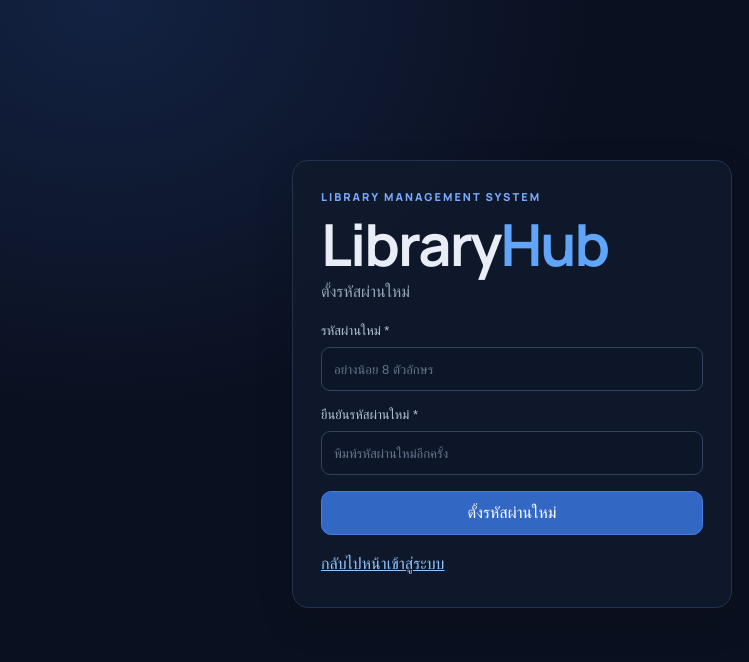
Test case: Login › ตั้งรหัสใหม่สำเร็จ: ส่ง token+รหัส, ล้าง token ออกจาก URL และกลับหน้าเข้าสู่ระบบ
Type "NewPassw0rd!" into the password field labelled "รหัสผ่านใหม่ *" at point(512, 369), box [321, 347, 703, 391]
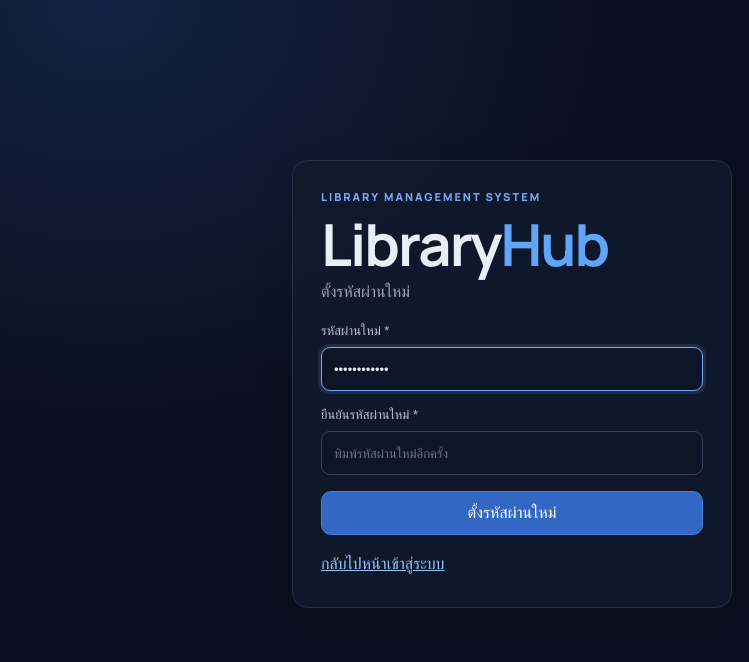
Type "NewPassw0rd!" into the password field labelled "ยืนยันรหัสผ่านใหม่ *" at point(512, 453), box [321, 431, 703, 475]
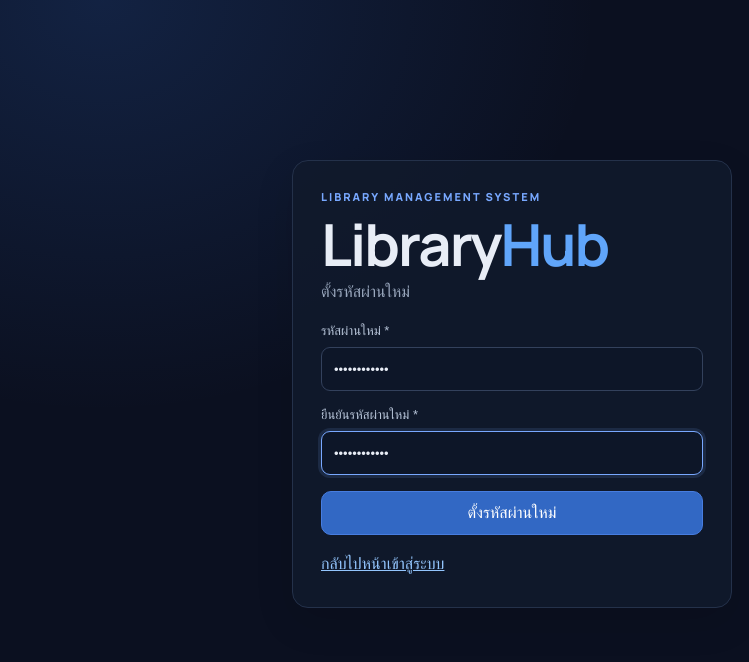
Click the button "ตั้งรหัสผ่านใหม่" at point(512, 513), box [321, 491, 703, 535]
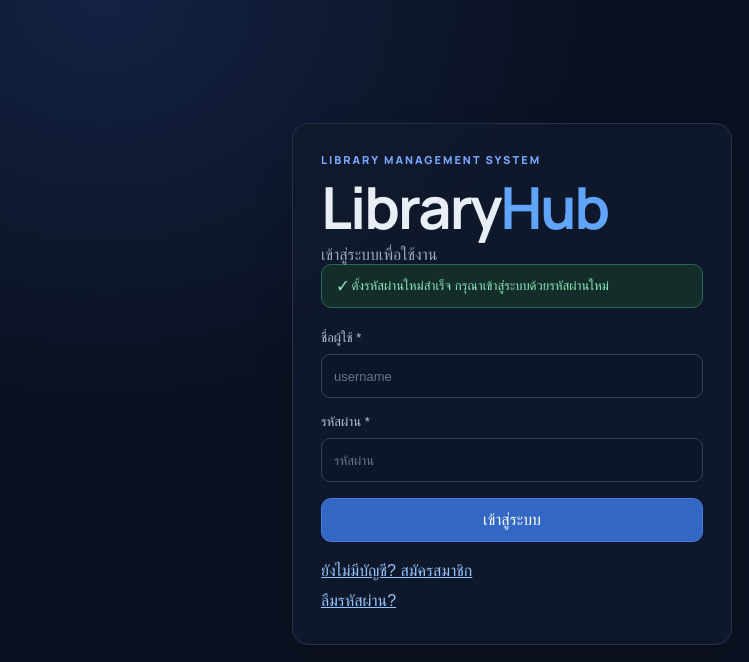
Expected: the message shows "ตั้งรหัสผ่านใหม่สำเร็จ", [351, 278, 609, 293]
Expected: the button "เข้าสู่ระบบ" is shown, [321, 498, 703, 542]
